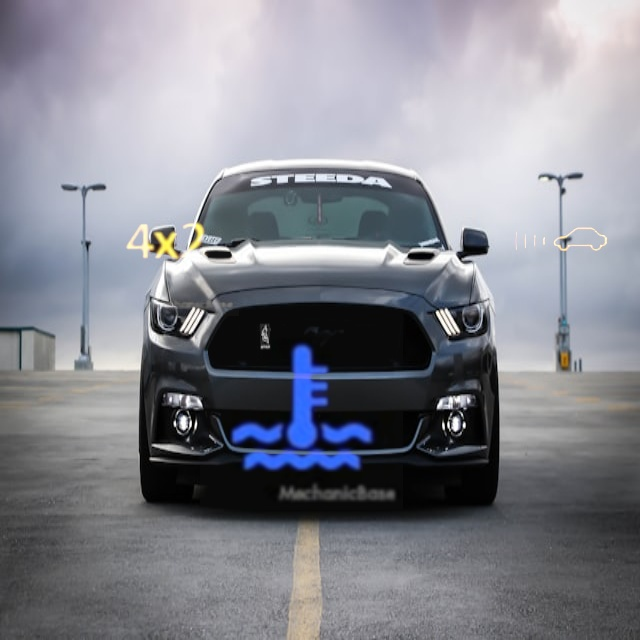symbol: (200, 307, 403, 510), (92, 169, 239, 316), (498, 179, 622, 303)
